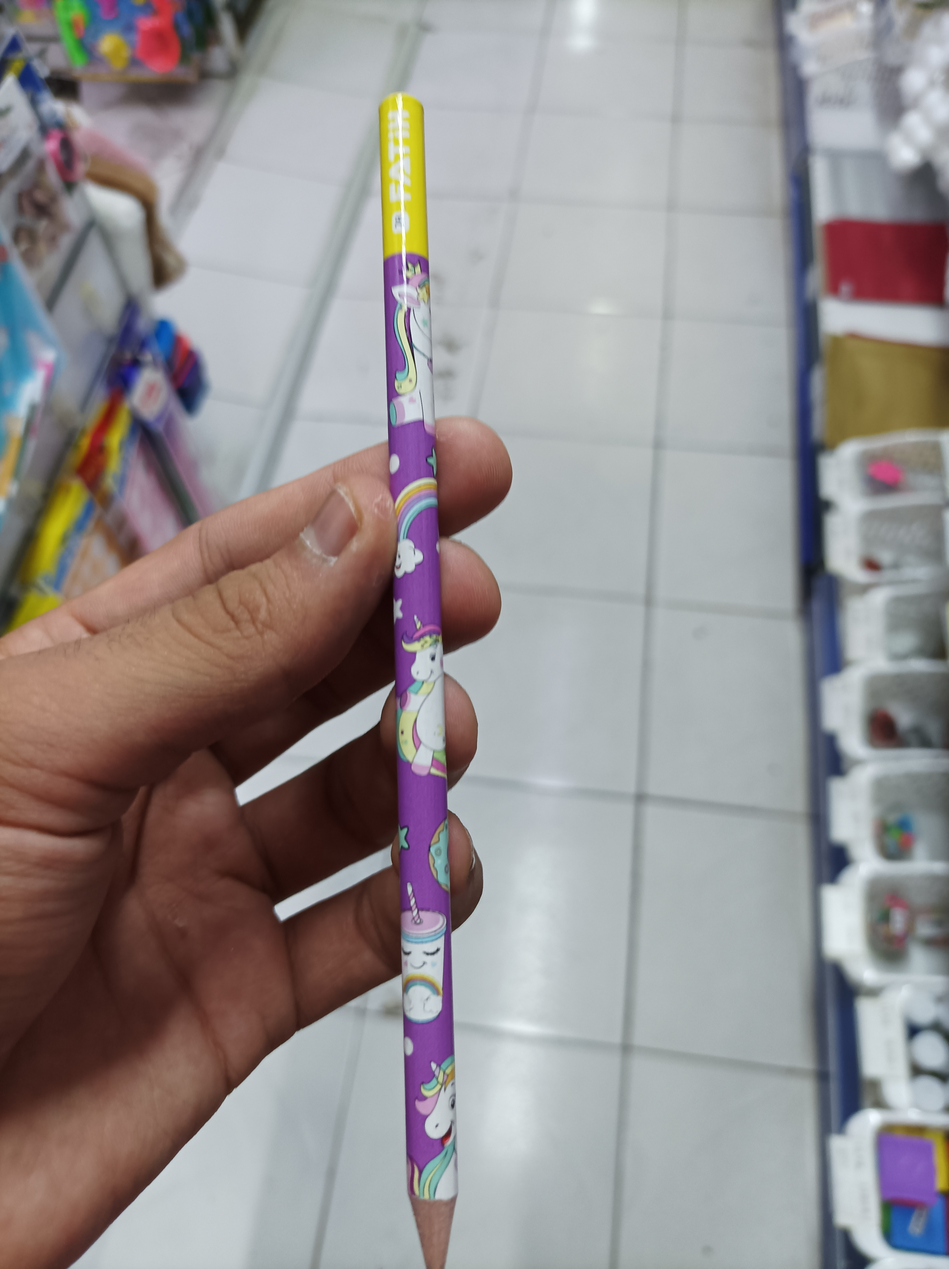plastic: (372, 92, 470, 1269)
